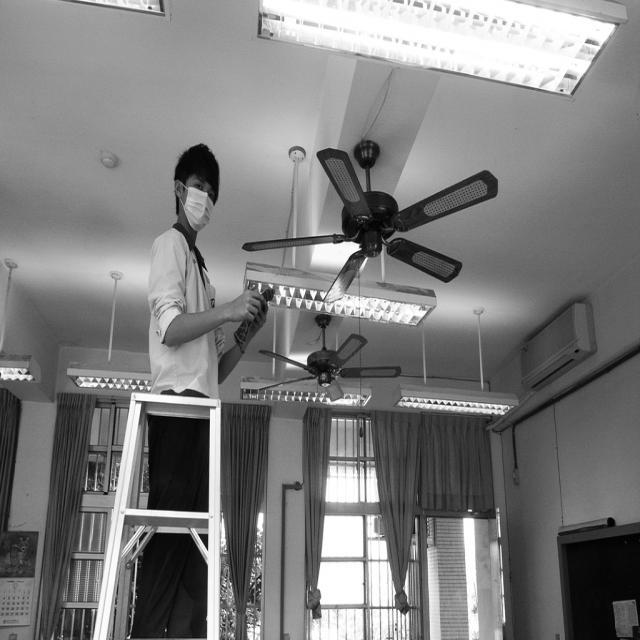fan_off: (243, 139, 494, 296), (258, 314, 402, 402)
tubelight_on: (257, 0, 631, 102), (228, 256, 438, 336), (391, 376, 518, 425), (240, 375, 377, 404), (67, 367, 161, 397), (65, 0, 162, 19), (0, 351, 47, 390)
